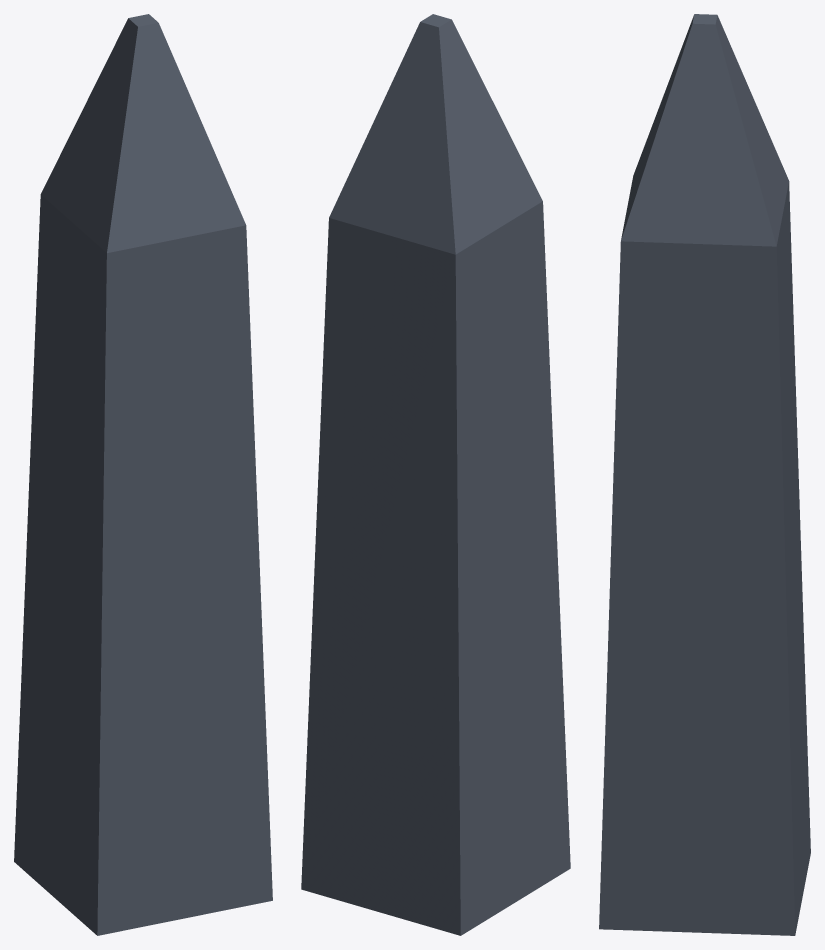
Rendered from EXT_Obelisk_00_Body.glb.
3 renders of one model, left to right at view 1: azimuth 30°, elevation 25°; view 2: azimuth 150°, elevation 25°; view 3: azimuth 270°, elevation 25°, orthographic.
Parts seen in each view (by area): view 1: EXT_Obelisk_00_Body; view 2: EXT_Obelisk_00_Body; view 3: EXT_Obelisk_00_Body.
Boxes of the visible parts, x1,y1,x2,y2 form: EXT_Obelisk_00_Body: [14, 14, 272, 935]; EXT_Obelisk_00_Body: [301, 14, 570, 935]; EXT_Obelisk_00_Body: [599, 14, 810, 935].
Size of the model in its own units: 1.04 by 4.7 by 1.04.
